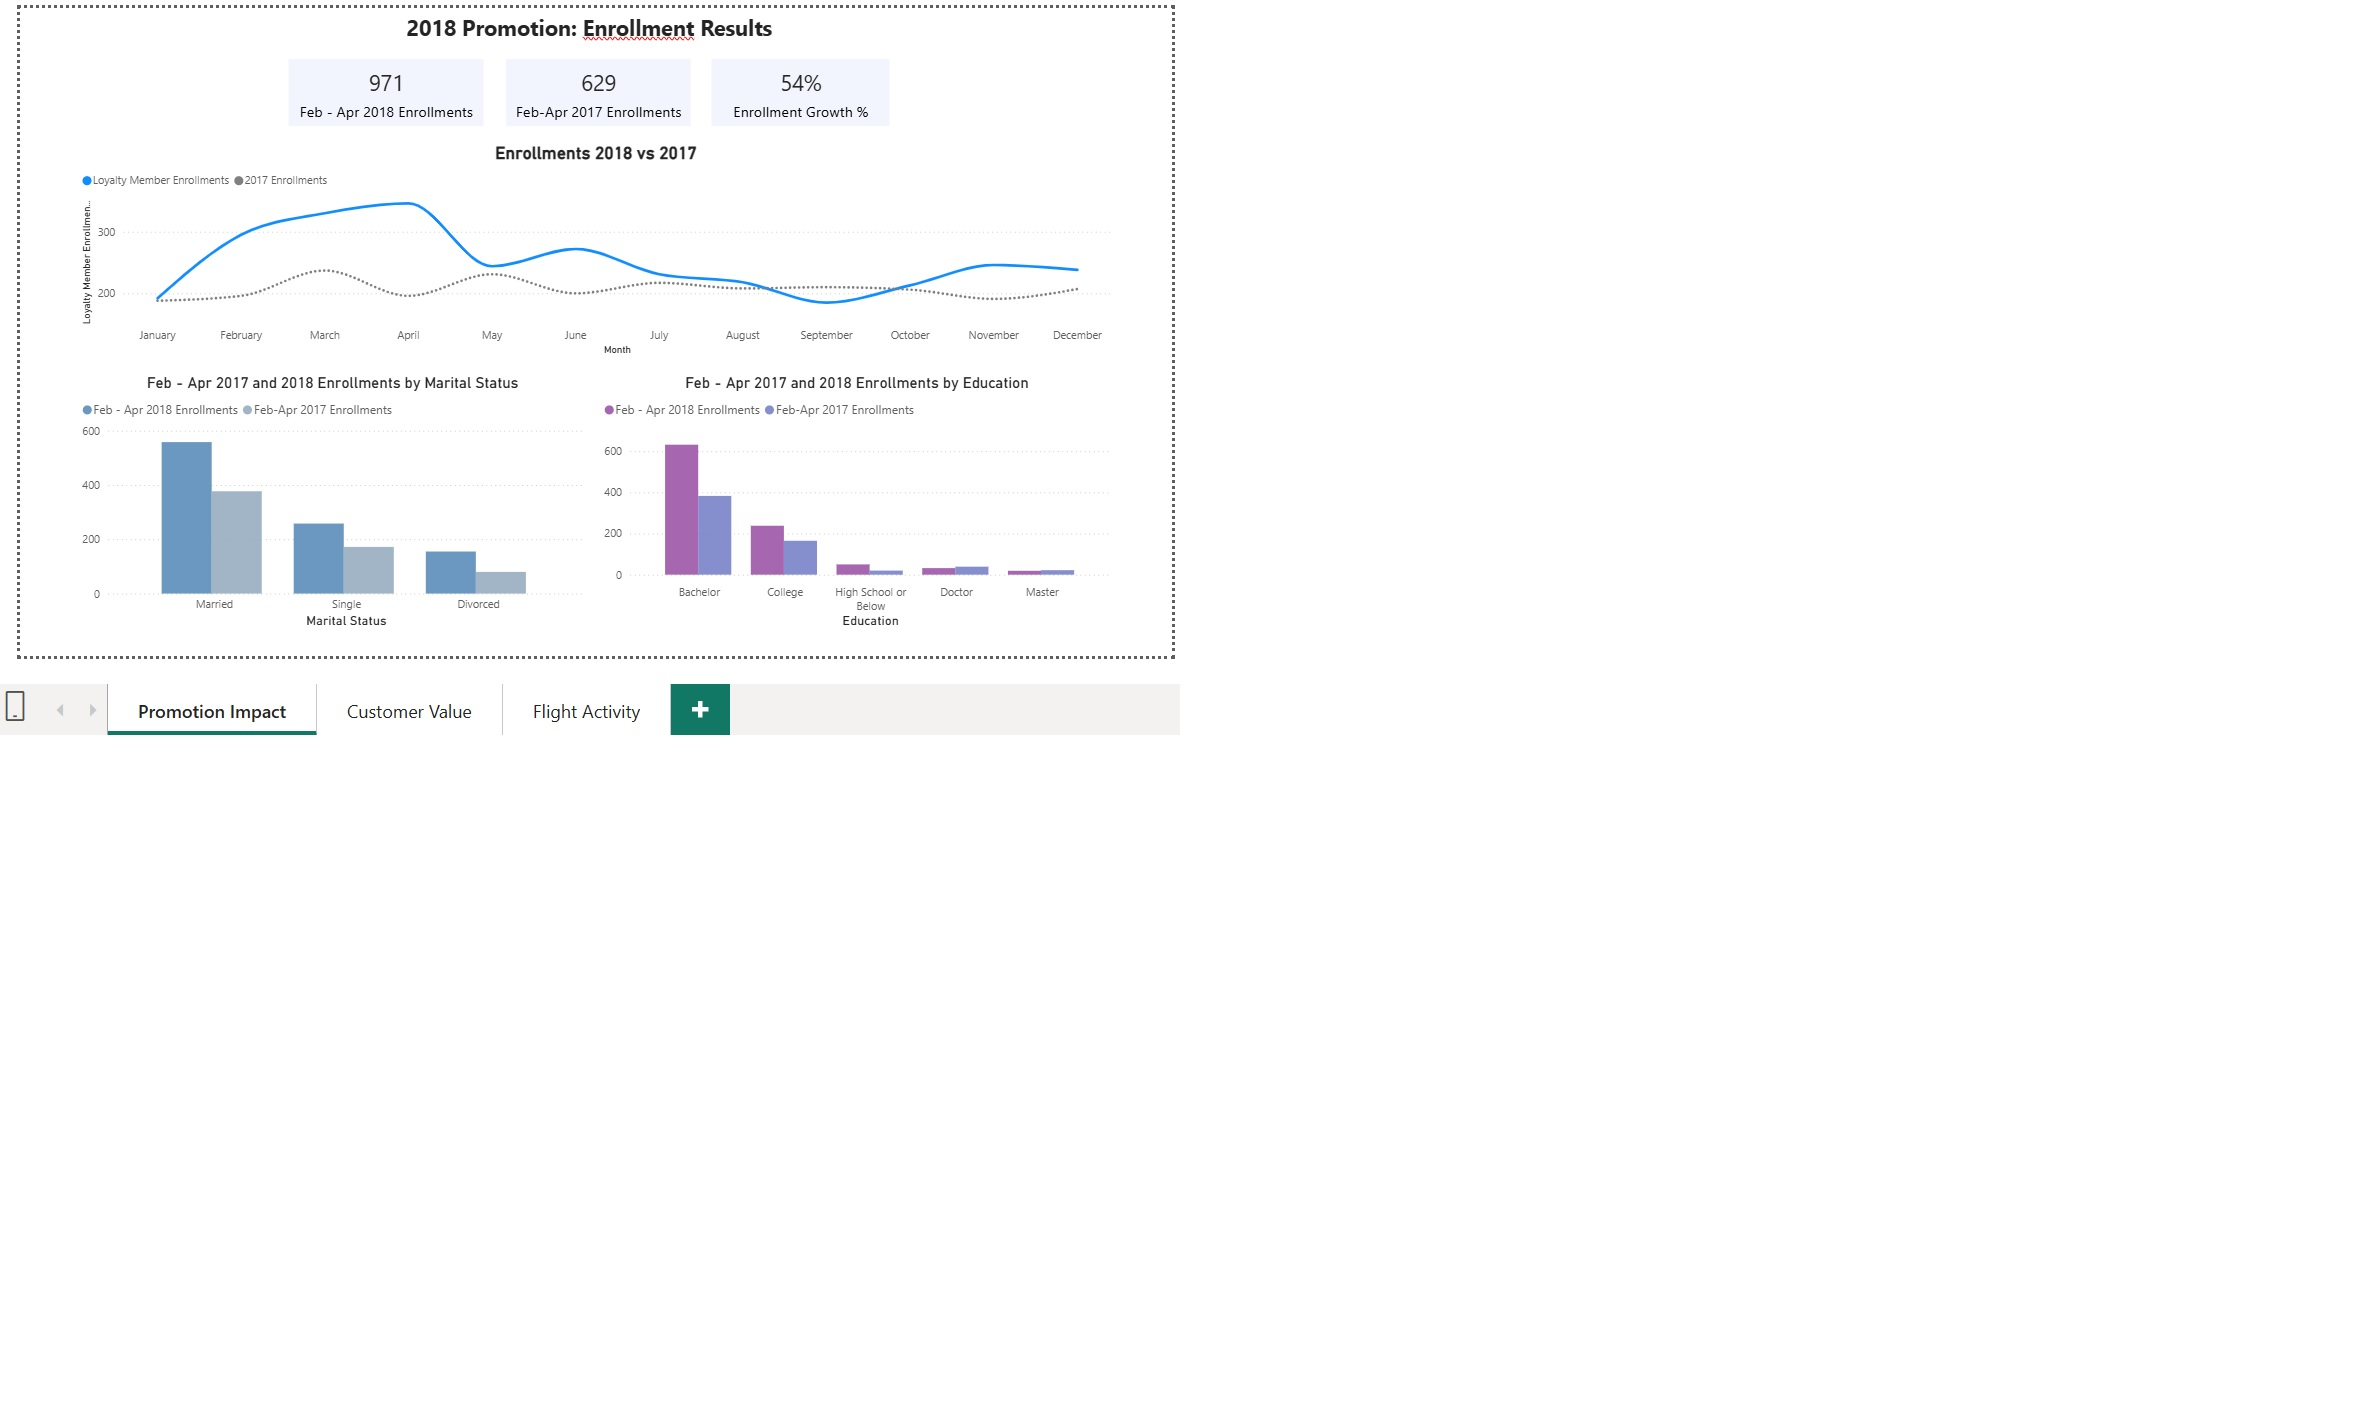

What the dashboard file says about the page in this screenshot:
{"tool":"powerbi","page":{"name":"Promotion Impact","canvas":[1280,720],"ordinal":0},"visuals":[{"type":"lineChart","title":"Enrollments 2018 vs 2017","fields":{"Y":["Measure Table.Loyalty Member Enrollments","Measure Table.Loyalty Member Enrollments (Last Year)"],"Category":["Calender.Start of Month.Variation.Date Hierarchy.Year","Calender.Start of Month.Variation.Date Hierarchy.Quarter","Calender.Start of Month.Variation.Date Hierarchy.Month","Calender.Start of Month.Variation.Date Hierarchy.Day"]},"box":[63.3,150,1153.3,240],"z":0},{"type":"card","fields":{"Values":["Measure Table.Enrollment Growth %"]},"box":[767.9,57.2,198.2,74.9],"z":1000},{"type":"clusteredColumnChart","title":"Feb - Apr 2017 and 2018 Enrollments by Marital Status","fields":{"Y":["Measure Table.Feb - Apr 2018 Enrollments","Measure Table.Feb-Apr 2017 Enrollments"],"Category":["Customer Loyalty History.Marital Status"]},"box":[63.3,406.7,568.3,286.7],"z":1000},{"type":"card","fields":{"Values":["Measure Table.Promotion Period Enrollments 2018"]},"box":[297.8,57.3,217,74.9],"z":2000},{"type":"clusteredColumnChart","title":"Feb - Apr 2017 and 2018 Enrollments by Education","fields":{"Y":["Measure Table.Feb - Apr 2018 Enrollments","Measure Table.Feb-Apr 2017 Enrollments"],"Category":["Customer Loyalty History.Education"]},"box":[643.3,406.7,573.3,286.7],"z":2000},{"type":"card","fields":{"Values":["Measure Table.Feb-Apr 2017 Enrollments"]},"box":[540.4,57.3,205.5,74.9],"z":3000},{"type":"textbox","box":[358.3,0,548.3,56.7],"z":3001}]}

Visuals, with their boxes on the page's 1280x720 design canvas (x1, y1, x2, y2). These are canvas units, not pixel positions in the 2358x1428 screenshot, which may show the page scaled, cropped or inside an application window:
"Enrollments 2018 vs 2017" lineChart: 63:150:1217:390
card - Measure Table.Enrollment Growth %: 768:57:966:132
"Feb - Apr 2017 and 2018 Enrollments by Marital Status" clusteredColumnChart: 63:407:632:693
card - Measure Table.Promotion Period Enrollments 2018: 298:57:515:132
"Feb - Apr 2017 and 2018 Enrollments by Education" clusteredColumnChart: 643:407:1217:693
card - Measure Table.Feb-Apr 2017 Enrollments: 540:57:746:132
textbox: 358:0:907:57
